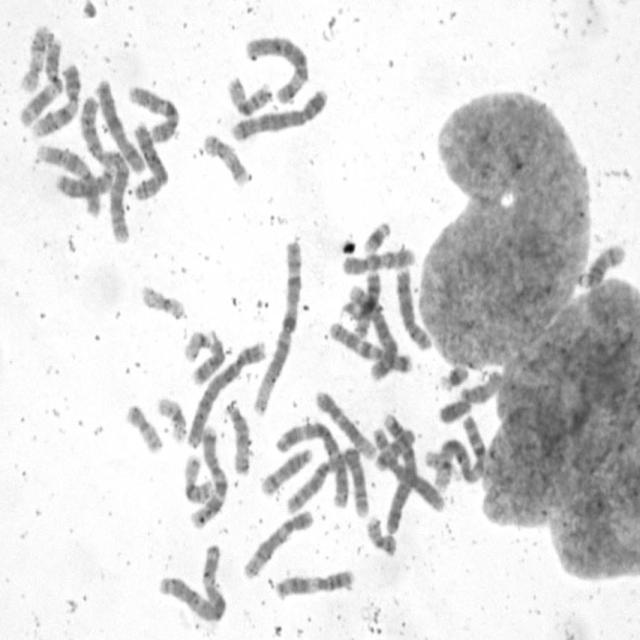A1: (250, 235, 304, 418), (431, 413, 487, 487)
A2: (77, 93, 132, 245), (281, 443, 369, 518)
A3: (272, 418, 351, 510), (155, 540, 228, 624)
B4: (181, 337, 268, 452), (380, 414, 418, 535)
B5: (227, 85, 331, 143), (344, 284, 400, 383)
C10: (125, 80, 182, 144), (341, 244, 417, 277)
C11: (17, 35, 64, 128), (272, 565, 356, 601)
C12: (241, 507, 315, 581), (312, 386, 378, 461)
C6: (372, 424, 446, 513), (243, 34, 310, 102)
C7: (326, 318, 414, 375), (187, 421, 229, 532)
C8: (393, 264, 434, 352), (130, 120, 170, 202)
C9: (34, 140, 104, 218), (28, 59, 82, 140)
D13: (52, 163, 116, 199), (350, 268, 382, 339)
D14: (258, 444, 313, 496), (578, 239, 628, 290)
D15: (222, 398, 252, 476), (457, 368, 503, 404)
E16: (224, 70, 276, 118), (180, 450, 214, 505)
E17: (200, 129, 251, 188), (17, 21, 51, 95)
E18: (184, 329, 226, 386), (373, 424, 418, 474)
F19: (137, 281, 188, 322), (154, 393, 188, 442)
F20: (122, 399, 165, 455), (364, 512, 398, 558)
G21: (359, 217, 394, 255), (435, 360, 471, 392)
G22: (423, 448, 464, 484), (181, 326, 214, 364)
X: (93, 75, 145, 173)
Y: (436, 393, 473, 425)
